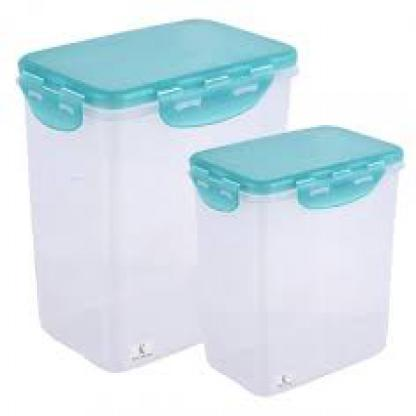plastic_box: (180, 98, 414, 400)
